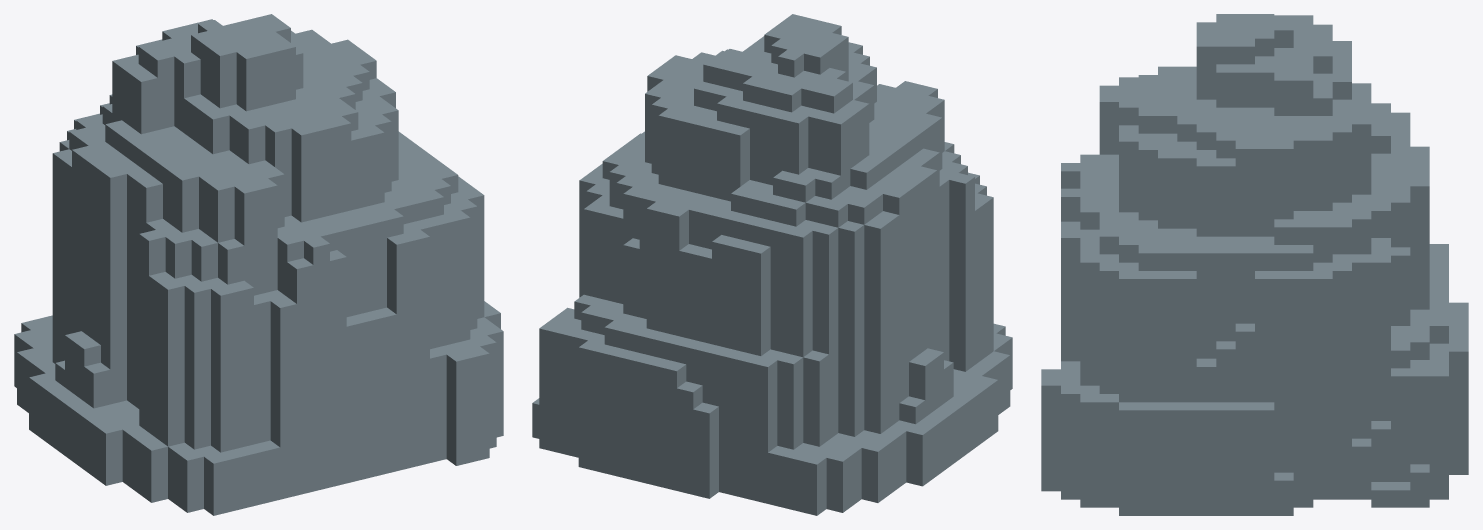
The model's file is rock-1x1x1.glb.
3 views of the same model, side by side, from view 1: azimuth 30°, elevation 25°; view 2: azimuth 150°, elevation 25°; view 3: azimuth 270°, elevation 25° (orthographic). The views are drawn at different scales.
Visible parts, largest first — view 1: v3; view 2: v3; view 3: v3.
Part boxes in pixels (bbox=[...]): v3: bbox=[14, 14, 503, 515]; v3: bbox=[532, 14, 1012, 515]; v3: bbox=[1041, 14, 1468, 515].
Bounding box in the file's own units: 22 × 22 × 22.
